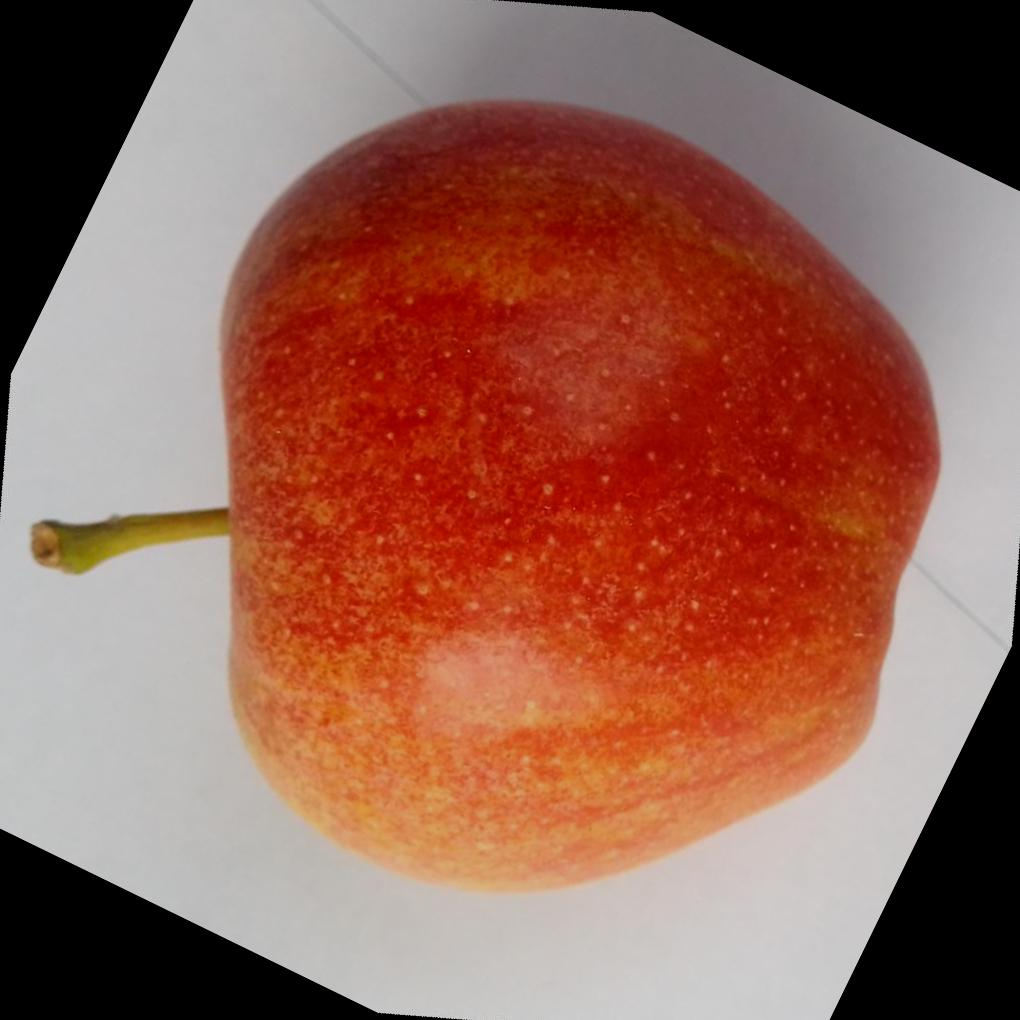FreshGuava: (213, 94, 941, 895)
